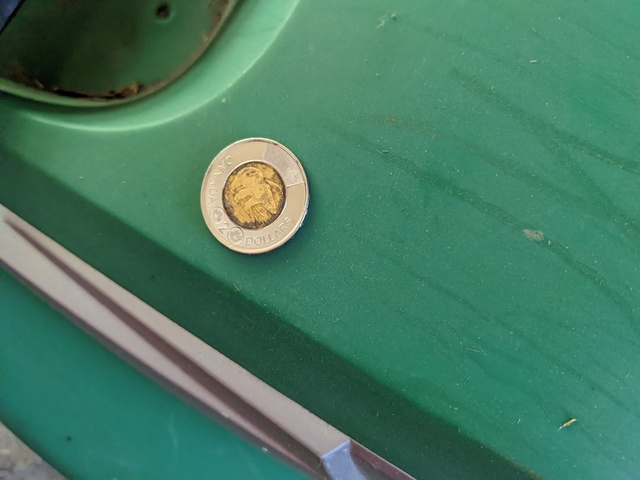twonie: (193, 142, 316, 255)
